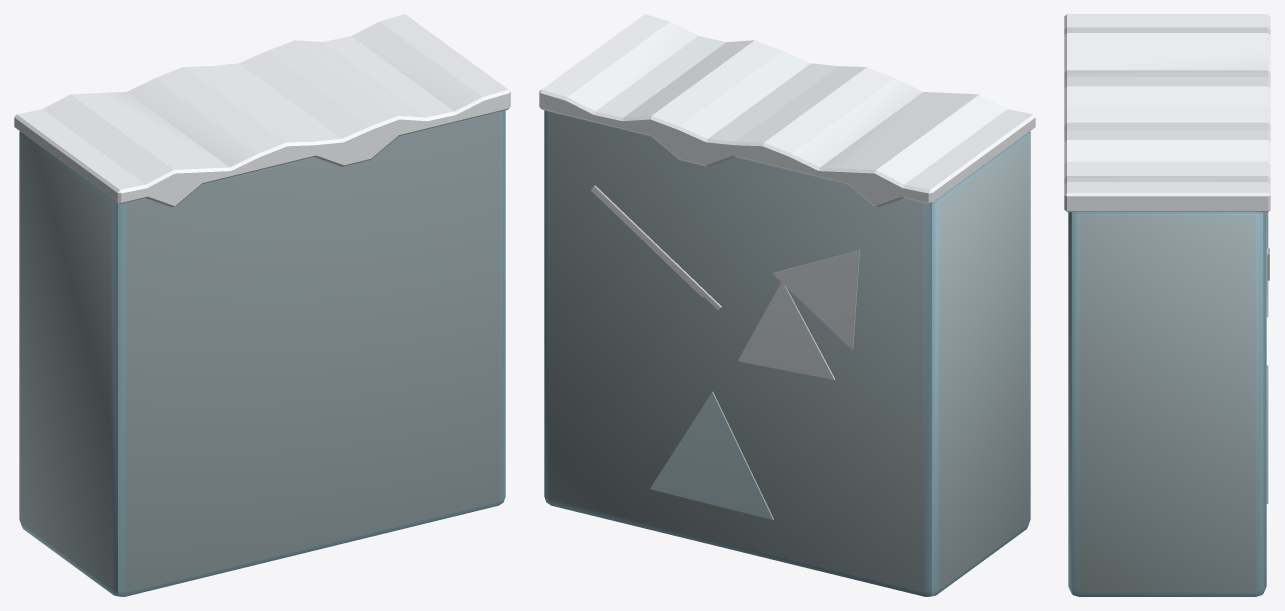
Rendered from CubeLargeIce.fbx.
3 renders of one model, left to right at view 1: azimuth 30°, elevation 25°; view 2: azimuth 150°, elevation 25°; view 3: azimuth 270°, elevation 25°, orthographic. The views are drawn at different scales.
Parts seen in each view (by area): view 1: CubeLargeIce; view 2: CubeLargeIce; view 3: CubeLargeIce.
Boxes of the visible parts, x1,y1,x2,y2 form: CubeLargeIce: [14, 14, 510, 596]; CubeLargeIce: [539, 14, 1035, 596]; CubeLargeIce: [1064, 14, 1270, 596].
Bounding box in the file's own units: 4.9 × 5 × 2.29.
